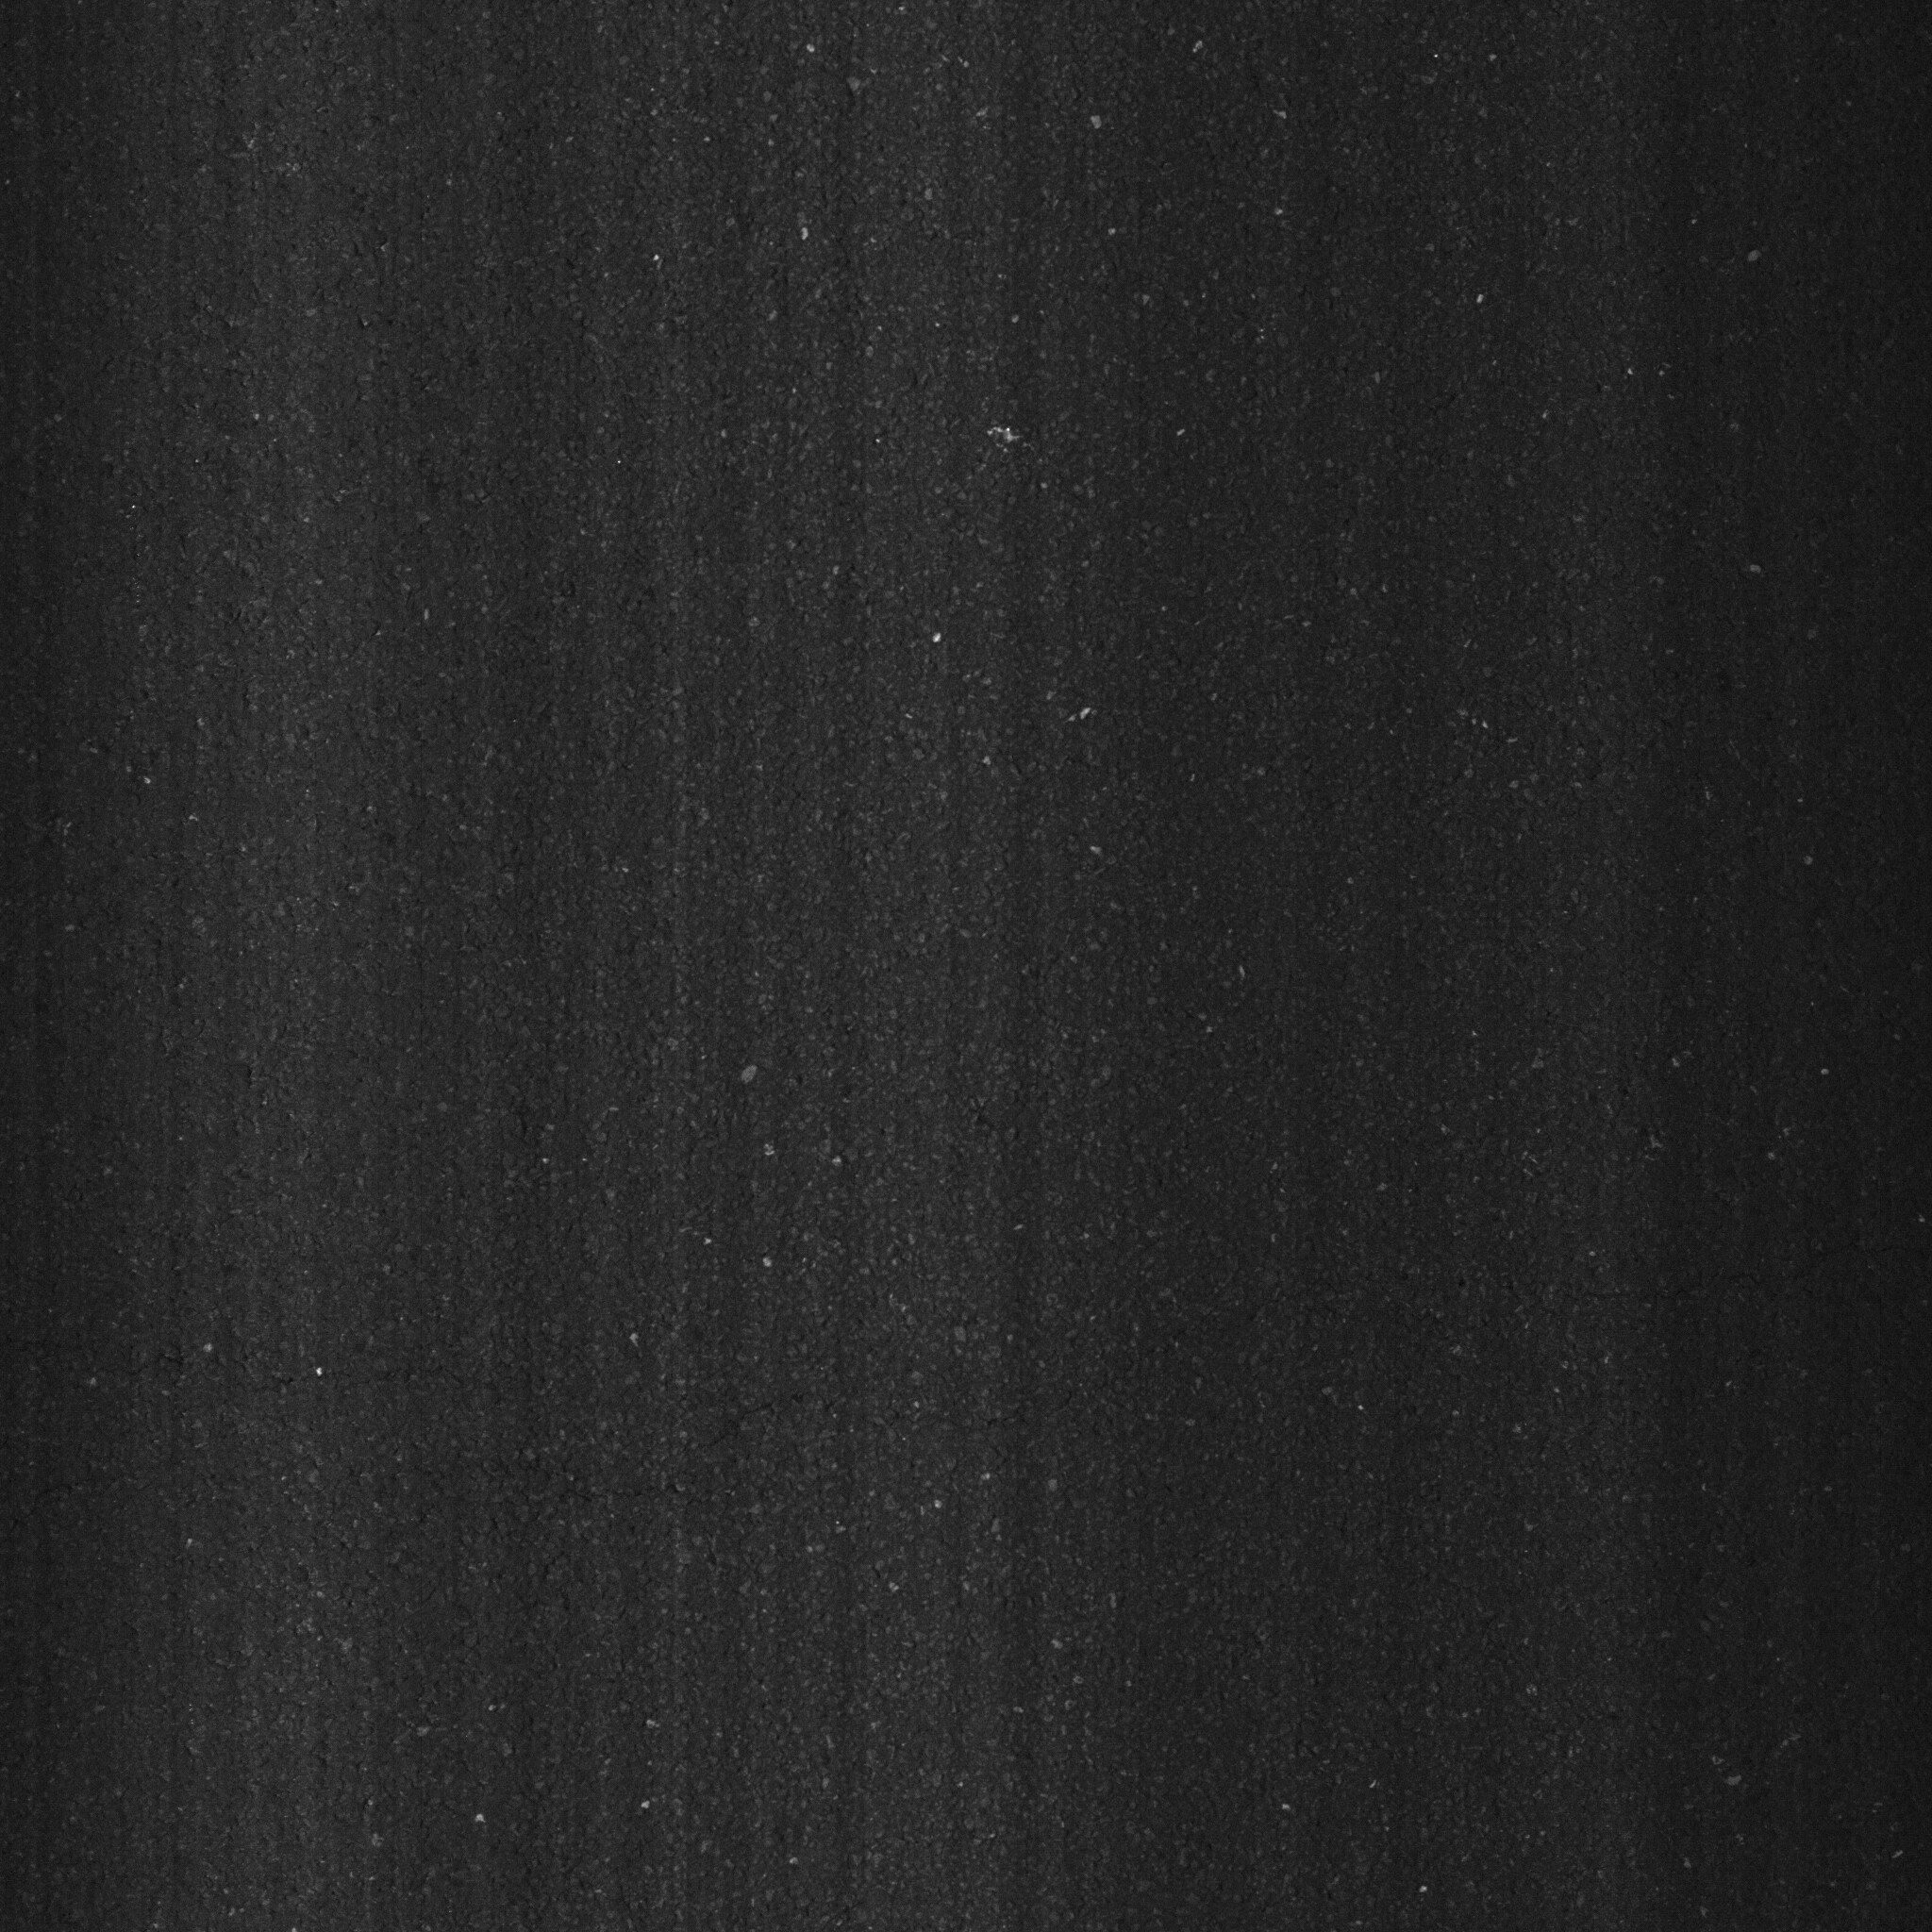transeverse: (501, 1244, 1932, 1603)
